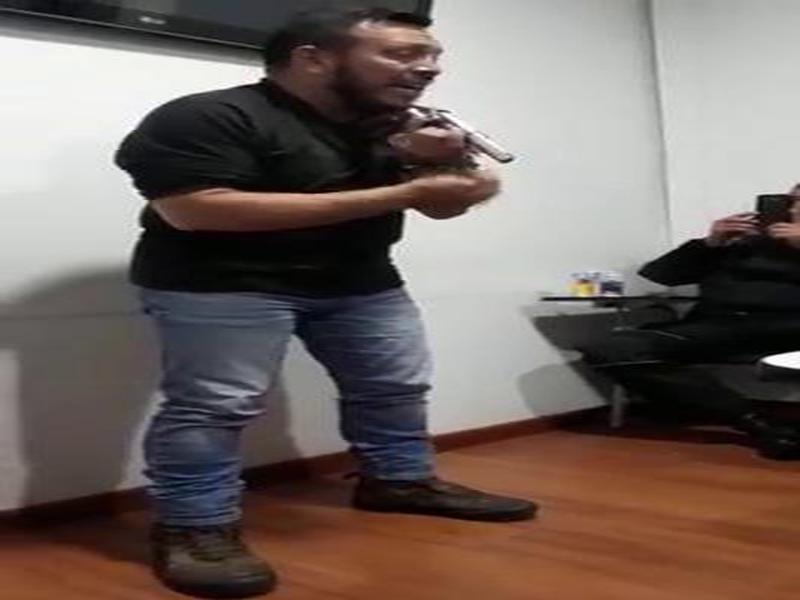Revolver: (367, 84, 519, 193)
